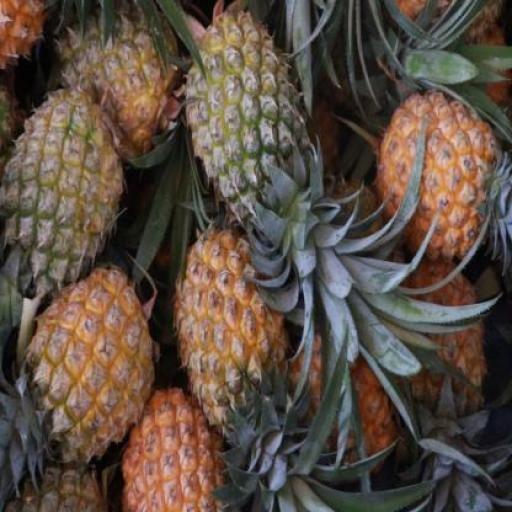------------------------------: (187, 6, 318, 228), (0, 96, 121, 294), (61, 0, 181, 158)
Pineapple - v8 v1: (27, 272, 151, 470), (174, 234, 291, 432), (377, 84, 497, 269), (121, 391, 233, 512)
